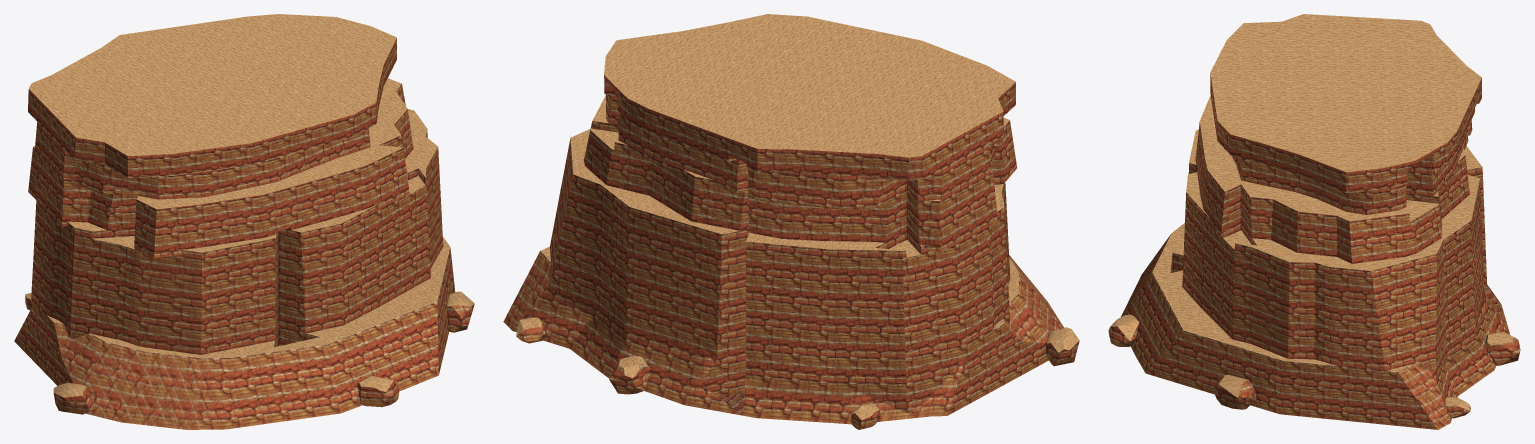
Rendered from mesa_02.glb.
The picture shows the model from 3 angles, left to right: view 1: azimuth 30°, elevation 25°; view 2: azimuth 150°, elevation 25°; view 3: azimuth 270°, elevation 25°; orthographic projection. The views are drawn at different scales.
Visible parts, largest first — view 1: mesa_02; view 2: mesa_02; view 3: mesa_02.
Boxes of the visible parts, <box> form: mesa_02: <box>14,14,474,429</box>; mesa_02: <box>503,14,1079,429</box>; mesa_02: <box>1108,14,1520,429</box>.
Size of the model in its own units: 39.9 by 21 by 33.95.
Materials: 1 (1 with a texture image).
